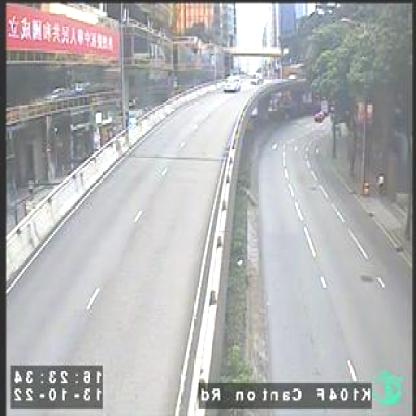Car: (222, 73, 242, 93)
